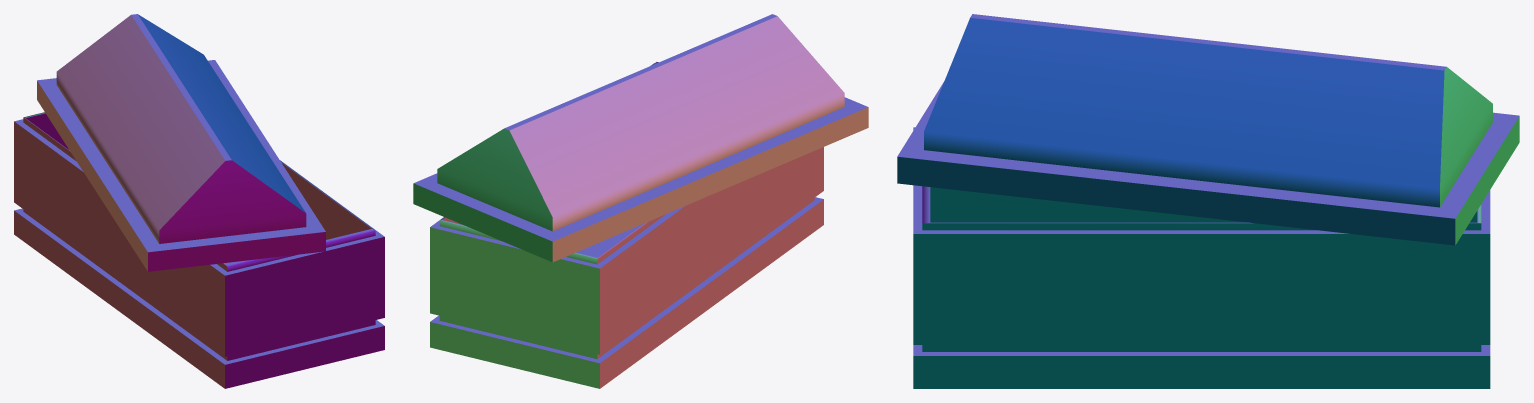
File: grave6 (1).fbx
The picture shows the model from 3 angles, left to right: view 1: azimuth 30°, elevation 25°; view 2: azimuth 150°, elevation 25°; view 3: azimuth 270°, elevation 25°; orthographic projection. The views are drawn at different scales.
Parts seen in each view (by area): view 1: pCube17; view 2: pCube17; view 3: pCube17.
Part boxes in pixels (<box>): pCube17: <box>14,14,384,388</box>; pCube17: <box>413,14,868,388</box>; pCube17: <box>897,14,1519,388</box>.
Bounding box in the file's own units: 1.79 × 1.43 × 2.85.
